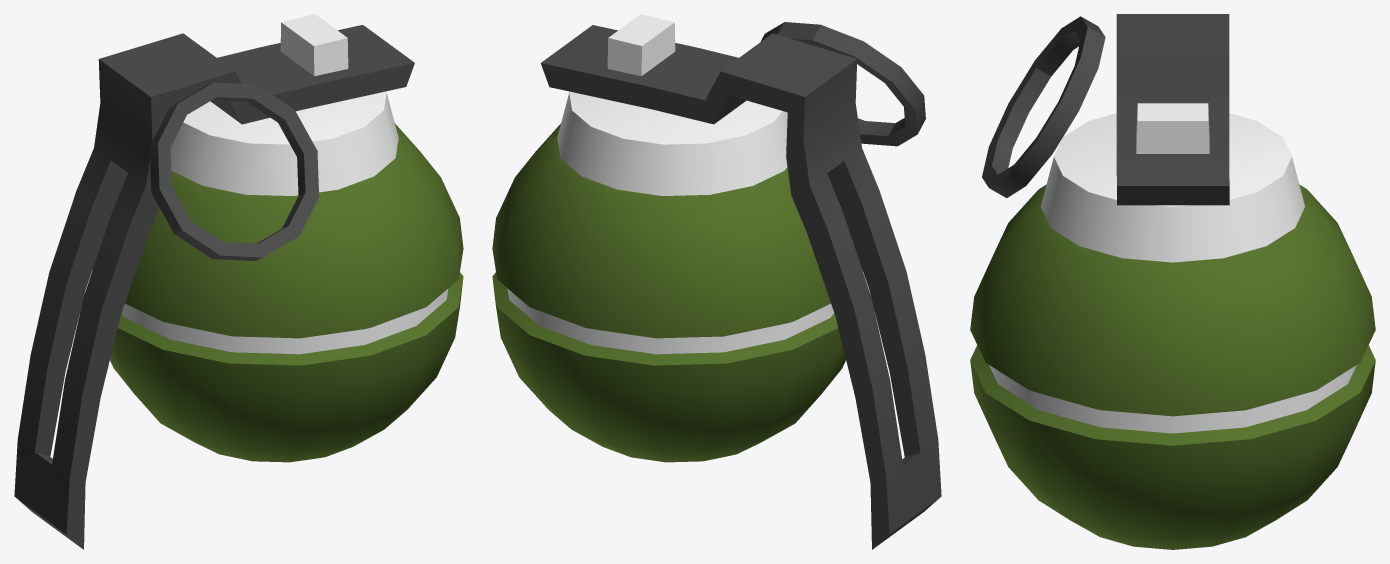
Rendered from quaternius-toon-shooter-game-grenade.glb.
The picture shows the model from 3 angles, left to right: view 1: azimuth 30°, elevation 25°; view 2: azimuth 150°, elevation 25°; view 3: azimuth 270°, elevation 25°; orthographic projection. The views are drawn at different scales.
Visible parts, largest first — view 1: Grenade; view 2: Grenade; view 3: Grenade.
Boxes of the visible parts, x1=… form: Grenade: x1=14, y1=14, x2=463, y2=549; Grenade: x1=492, y1=14, x2=941, y2=549; Grenade: x1=970, y1=14, x2=1375, y2=549.
Bounding box in the file's own units: 0.5637 × 0.6051 × 0.459.
